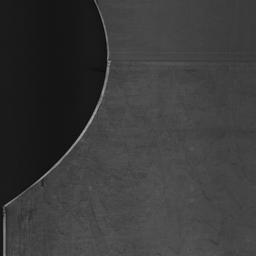Crescent gap: (3, 0, 107, 203)
